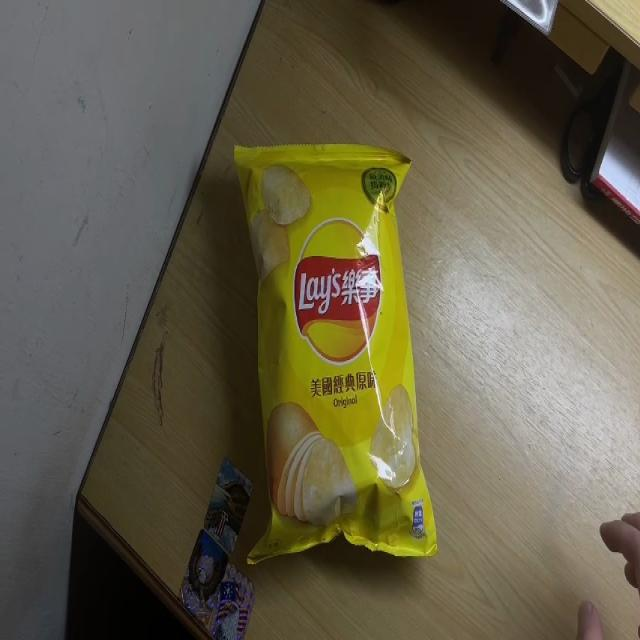Lay-s-original: (232, 145, 440, 567)
